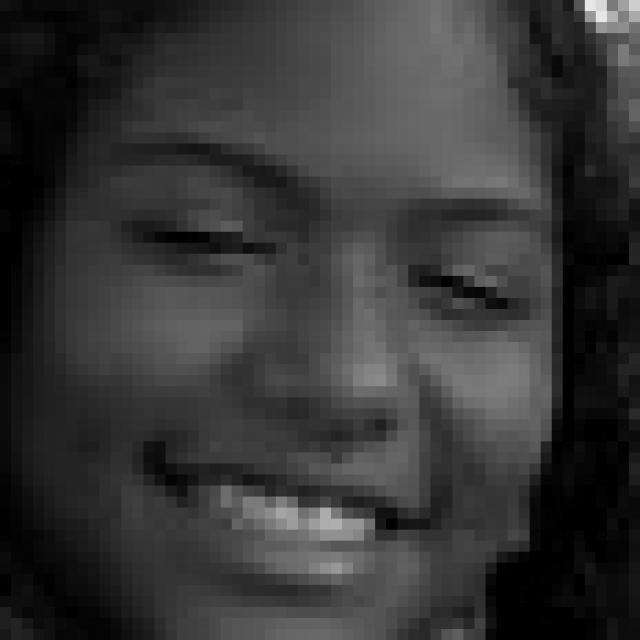real: (21, 18, 567, 628), (132, 159, 533, 349)
